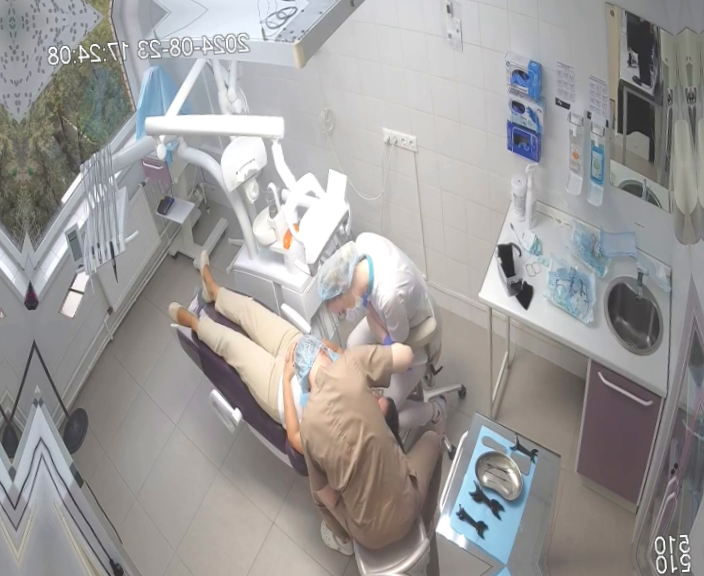Patient: (163, 235, 419, 531)
